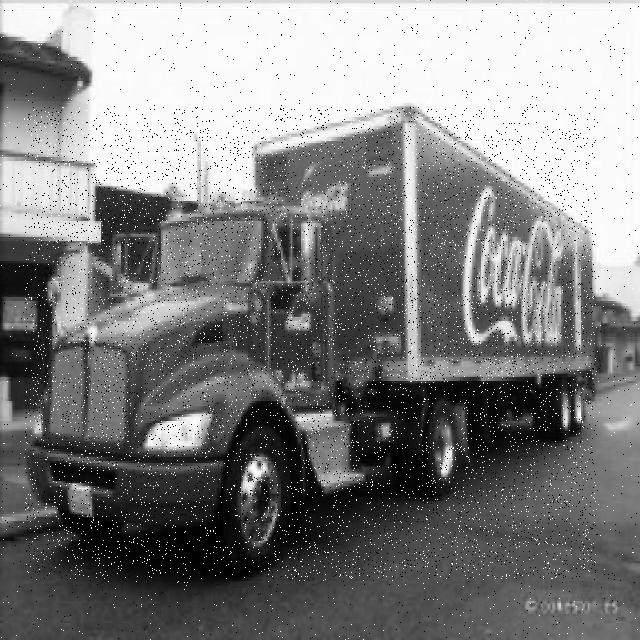Tractor Trailer: (25, 107, 596, 579)
